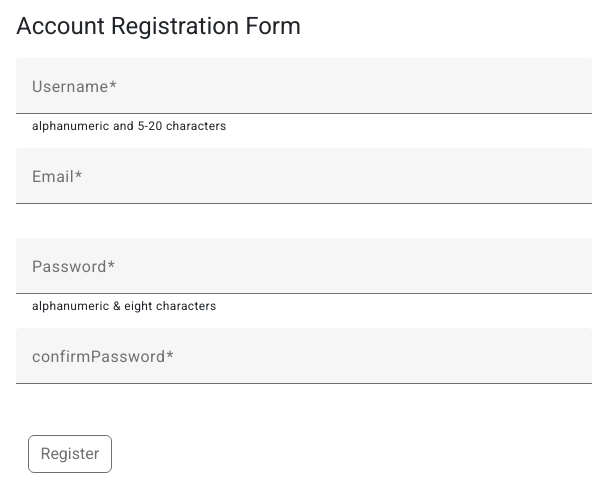
Test: AccountRegistrationComponent › form completion and submission › username control › should show Username minlength validation messages when input is minlength
Type "kl" into the field with placeholder "username".
click(304, 94); type("kl")  # box [32,82,576,106]
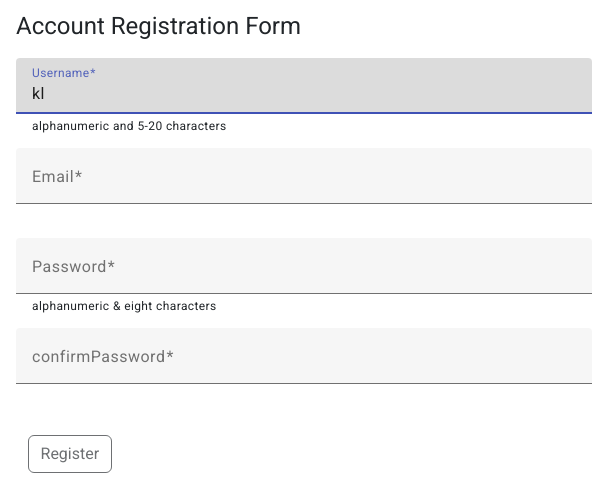
Leave the 1st field, box [32,82,576,106]
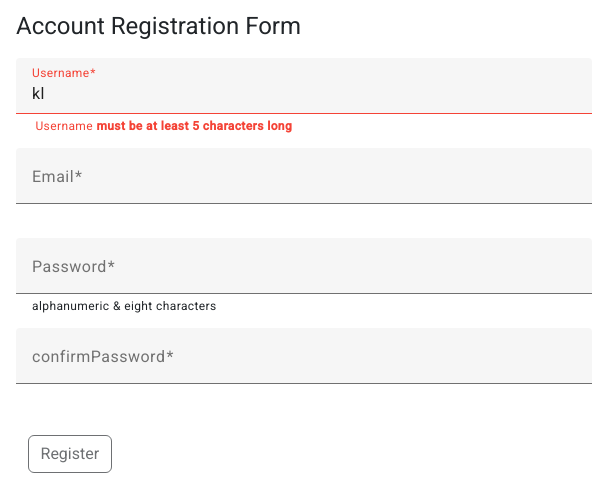
expect the element showing "Username must be at least 5 characters long" is shown: met, box [32,119,292,133]
